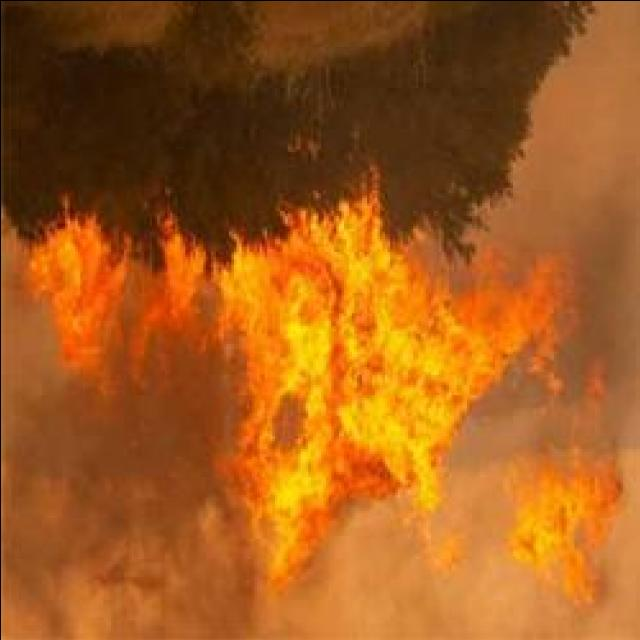fire: (247, 223, 377, 527), (368, 272, 460, 474)
smoke: (10, 357, 242, 595)
